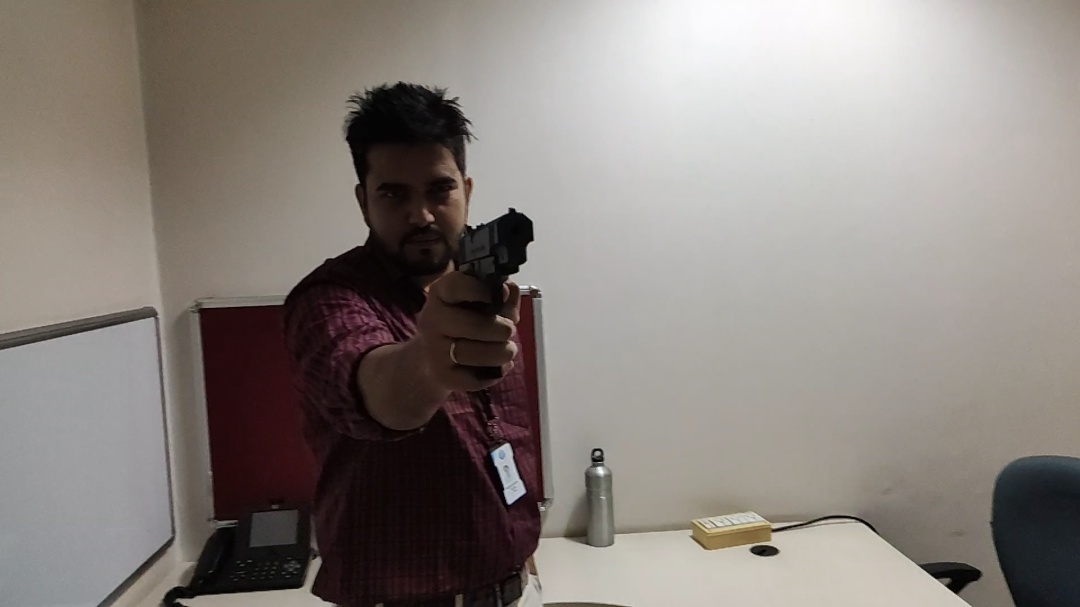gun: (449, 205, 543, 390)
